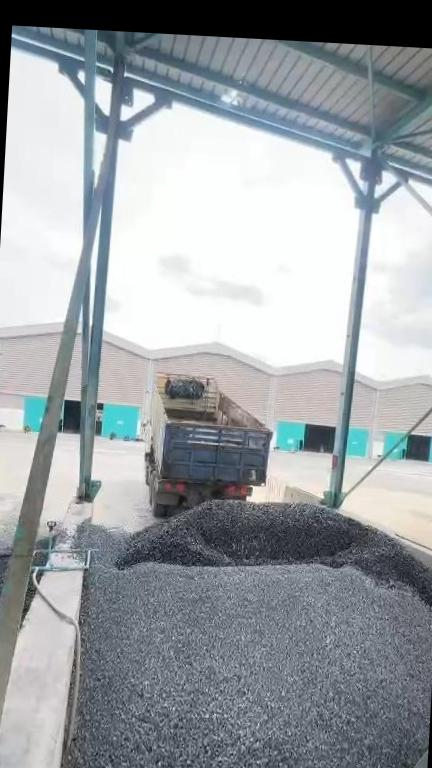gravel: (58, 516, 432, 768), (116, 502, 432, 608), (23, 568, 43, 618), (0, 548, 11, 598)
sand: (397, 515, 432, 551)
